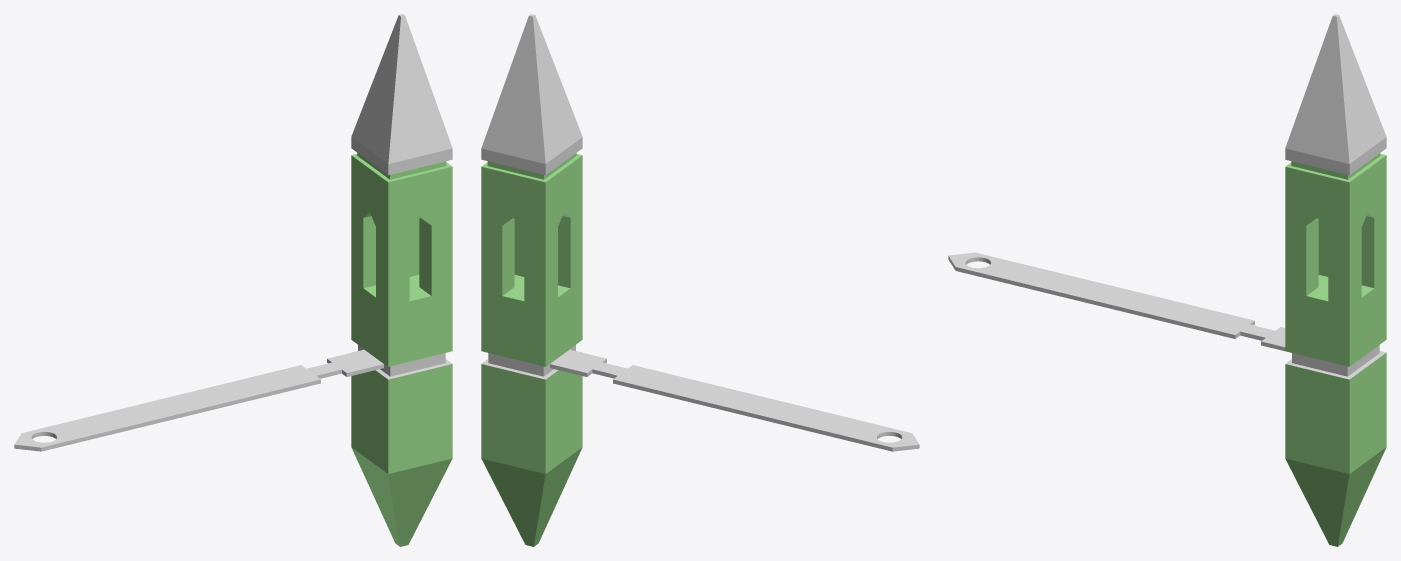
Rendered from wall.glb.
3 views of the same model, side by side, from view 1: azimuth 30°, elevation 25°; view 2: azimuth 150°, elevation 25°; view 3: azimuth 330°, elevation 25° (orthographic).
Visible parts, largest first — view 1: Cube, blade, blade2; view 2: Cube, blade, blade2; view 3: Cube, blade, blade2.
Boxes of the visible parts, x1,y1,x2,y2 form: Cube: (351,14,452,546); blade: (14,349,383,451); blade2: (192,356,375,408); Cube: (481,14,582,546); blade: (550,349,919,451); blade2: (558,355,741,406); Cube: (1285,14,1386,546); blade: (948,252,1291,352); blade2: (1125,297,1285,339).
Bounding box in the file's own units: 32.63 × 39.28 × 5.
